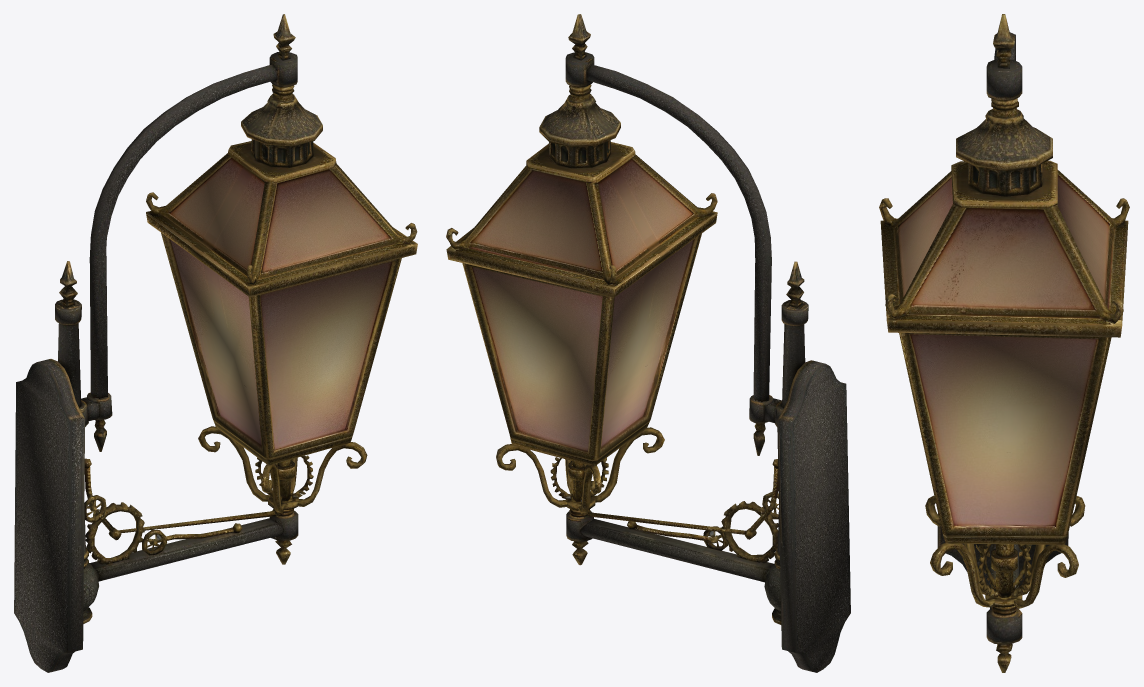
File: tripo_convert_4f8e66b4-e86e-412d-8a74-bdc4f0976de9.fbx
3 views of the same model, side by side, from view 1: azimuth 30°, elevation 25°; view 2: azimuth 150°, elevation 25°; view 3: azimuth 270°, elevation 25° (orthographic). The views are drawn at different scales.
Parts seen in each view (by area): view 1: tripo_node_4f8e66b4; view 2: tripo_node_4f8e66b4; view 3: tripo_node_4f8e66b4.
Boxes of the visible parts, x1,y1,x2,y2 form: tripo_node_4f8e66b4: (14, 14, 417, 672); tripo_node_4f8e66b4: (446, 14, 850, 672); tripo_node_4f8e66b4: (879, 14, 1129, 672).
Bounding box in the file's own units: 0.5762 × 0.998 × 0.3184.
Materials: 1 (1 with a texture image).
